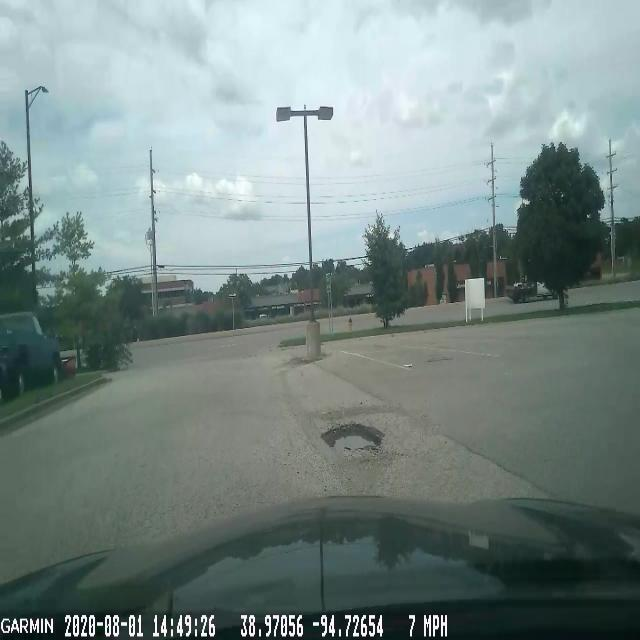Pothole: (316, 413, 392, 475)
